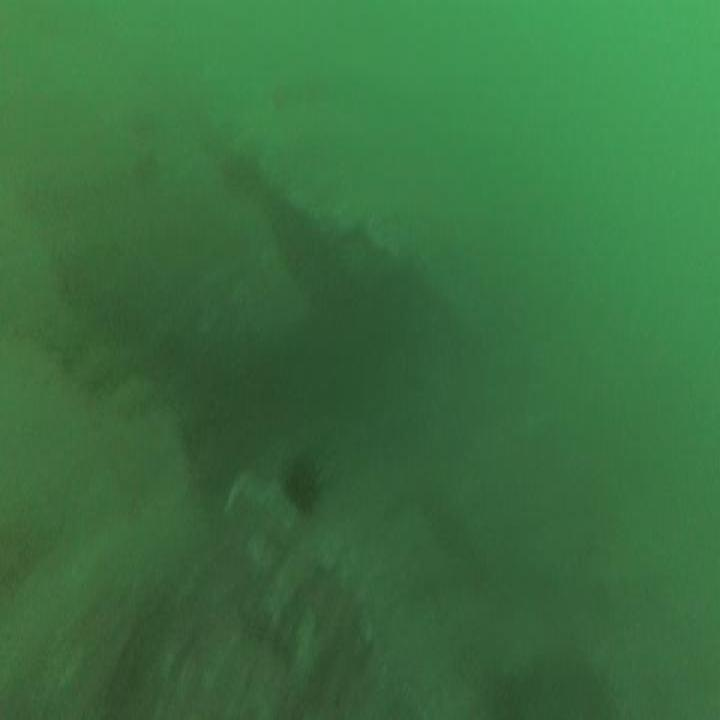echinus: (284, 459, 322, 512)
